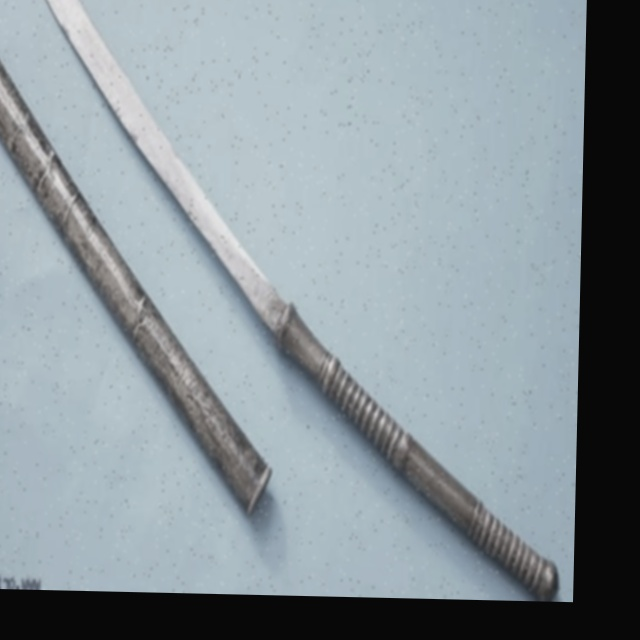Sharp-Object: (0, 0, 580, 602)
